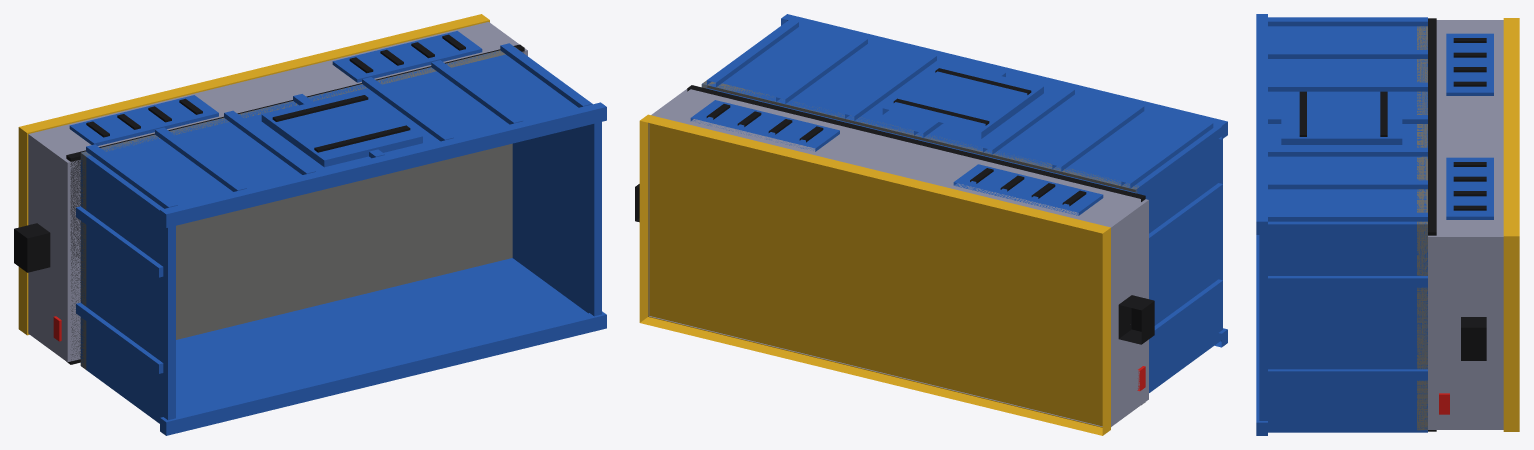
The model's file is empty.glb.
The picture shows the model from 3 angles, left to right: view 1: azimuth 30°, elevation 25°; view 2: azimuth 150°, elevation 25°; view 3: azimuth 270°, elevation 25°; orthographic projection. The views are drawn at different scales.
Parts seen in each view (by area): view 1: empty_body, empty_base, empty_stripe, empty_side1_-0.75_2.35, empty_pod10, empty_pod11, empty_base_lip, empty_coupler-1, empty_side1_-0.70_3.65, empty_side1_-0.70_2.55; view 2: empty_stripe, empty_body, empty_base, empty_side1_-0.75_2.35, empty_pod10, empty_pod11, empty_base_lip, empty_coupler-1; view 3: empty_body, empty_base, empty_stripe, empty_side1_-0.75_2.35, empty_pod10, empty_pod11, empty_base_lip, empty_coupler1, empty_side1_-0.70_2.55, empty_side1_-0.70_3.65.
Part boxes in pixels (x1=…): empty_body: x1=76, y1=43, x2=606, y2=435; empty_base: x1=28, y1=22, x2=527, y2=362; empty_stripe: x1=18, y1=14, x2=489, y2=335; empty_side1_-0.75_2.35: x1=261, y1=90, x2=422, y2=167; empty_pod10: x1=69, y1=95, x2=218, y2=145; empty_pod11: x1=332, y1=31, x2=482, y2=82; empty_base_lip: x1=66, y1=44, x2=524, y2=364; empty_coupler-1: x1=14, y1=223, x2=50, y2=272; empty_side1_-0.70_3.65: x1=314, y1=125, x2=410, y2=152; empty_side1_-0.70_2.55: x1=272, y1=95, x2=368, y2=121; empty_stripe: x1=639, y1=114, x2=1110, y2=435; empty_body: x1=701, y1=14, x2=1227, y2=392; empty_base: x1=648, y1=89, x2=1148, y2=426; empty_side1_-0.75_2.35: x1=882, y1=62, x2=1043, y2=138; empty_pod10: x1=953, y1=164, x2=1103, y2=215; empty_pod11: x1=690, y1=100, x2=839, y2=151; empty_base_lip: x1=687, y1=85, x2=1145, y2=404; empty_coupler-1: x1=1118, y1=295, x2=1154, y2=344; empty_body: x1=1256, y1=14, x2=1427, y2=435; empty_base: x1=1428, y1=20, x2=1503, y2=429; empty_stripe: x1=1503, y1=18, x2=1519, y2=431; empty_side1_-0.75_2.35: x1=1281, y1=92, x2=1402, y2=144; empty_pod10: x1=1446, y1=33, x2=1493, y2=95; empty_pod11: x1=1446, y1=157, x2=1493, y2=219; empty_base_lip: x1=1428, y1=18, x2=1436, y2=431; empty_coupler1: x1=1461, y1=317, x2=1486, y2=360; empty_side1_-0.70_2.55: x1=1380, y1=91, x2=1387, y2=136; empty_side1_-0.70_3.65: x1=1299, y1=91, x2=1306, y2=136.
Bounding box in the file's own units: 7.7 × 3.36 × 3.59.
